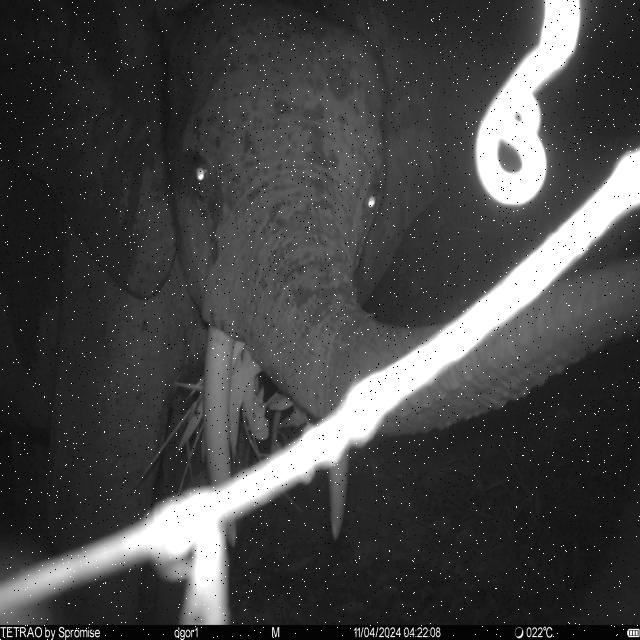ear: (1, 0, 184, 300), (326, 1, 444, 322)
elephant: (0, 0, 640, 626)
tusk: (203, 324, 240, 556), (328, 446, 351, 540)
